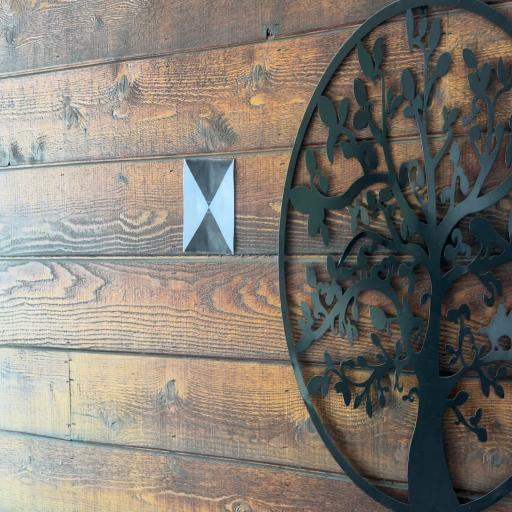target: (184, 160, 234, 252)
